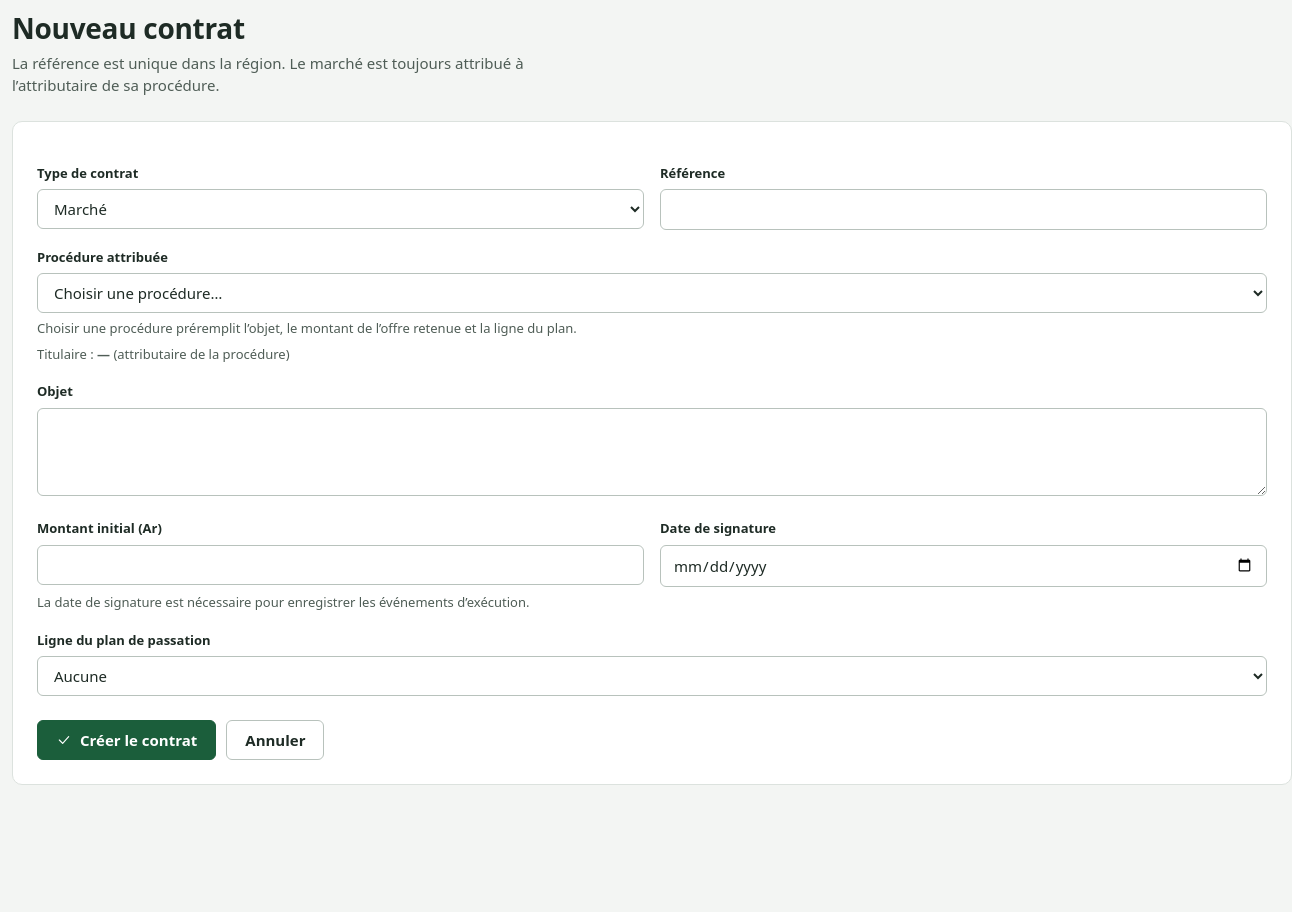
ContractForm › refuse un montant illisible sans appeler le processus principal
Select "Convention" in the dropdown labelled "Type de contrat" at (340, 209), box [37,189,644,229]
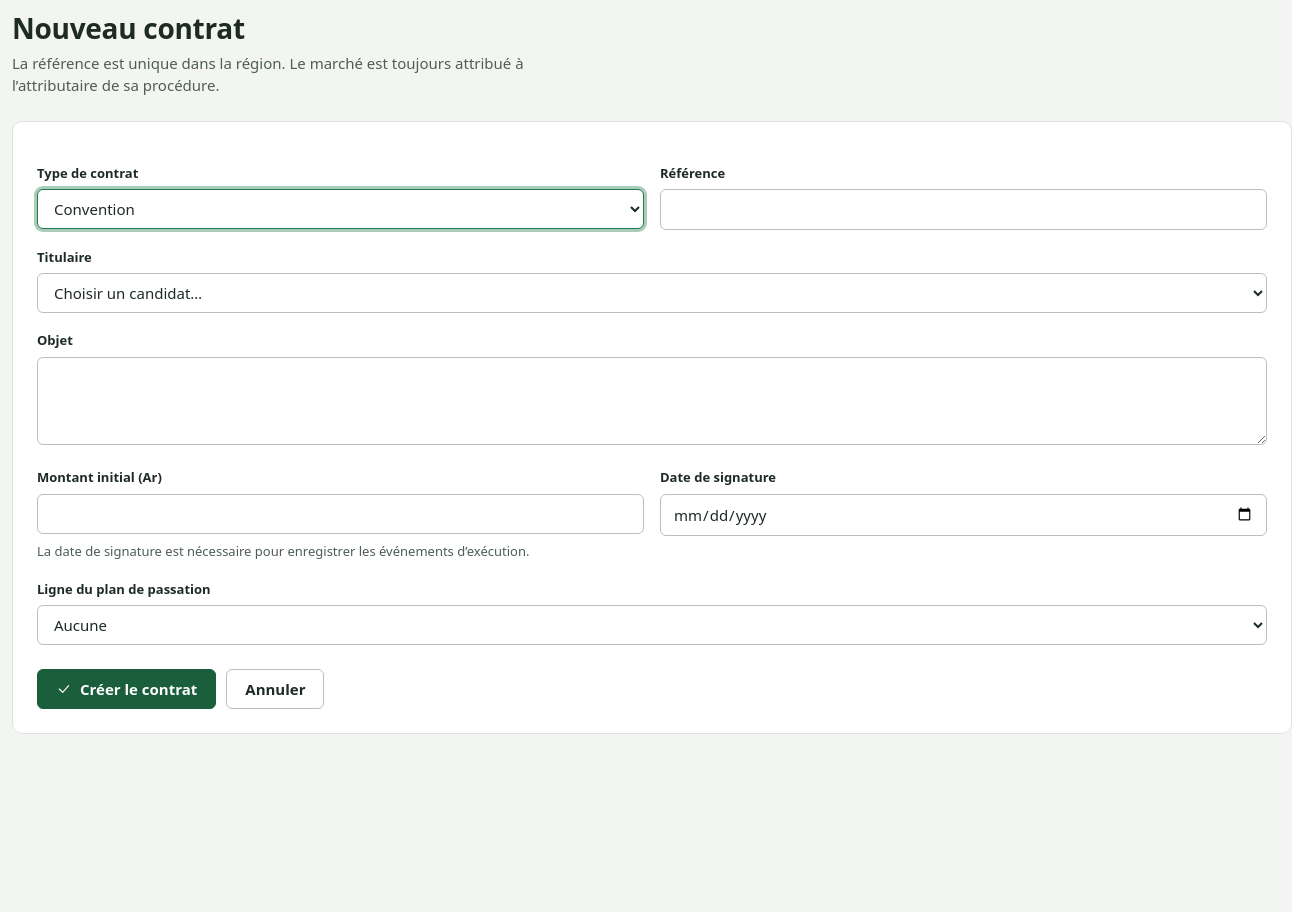
Select "Beta" in the dropdown labelled "Titulaire" at (652, 293), box [37,273,1267,313]
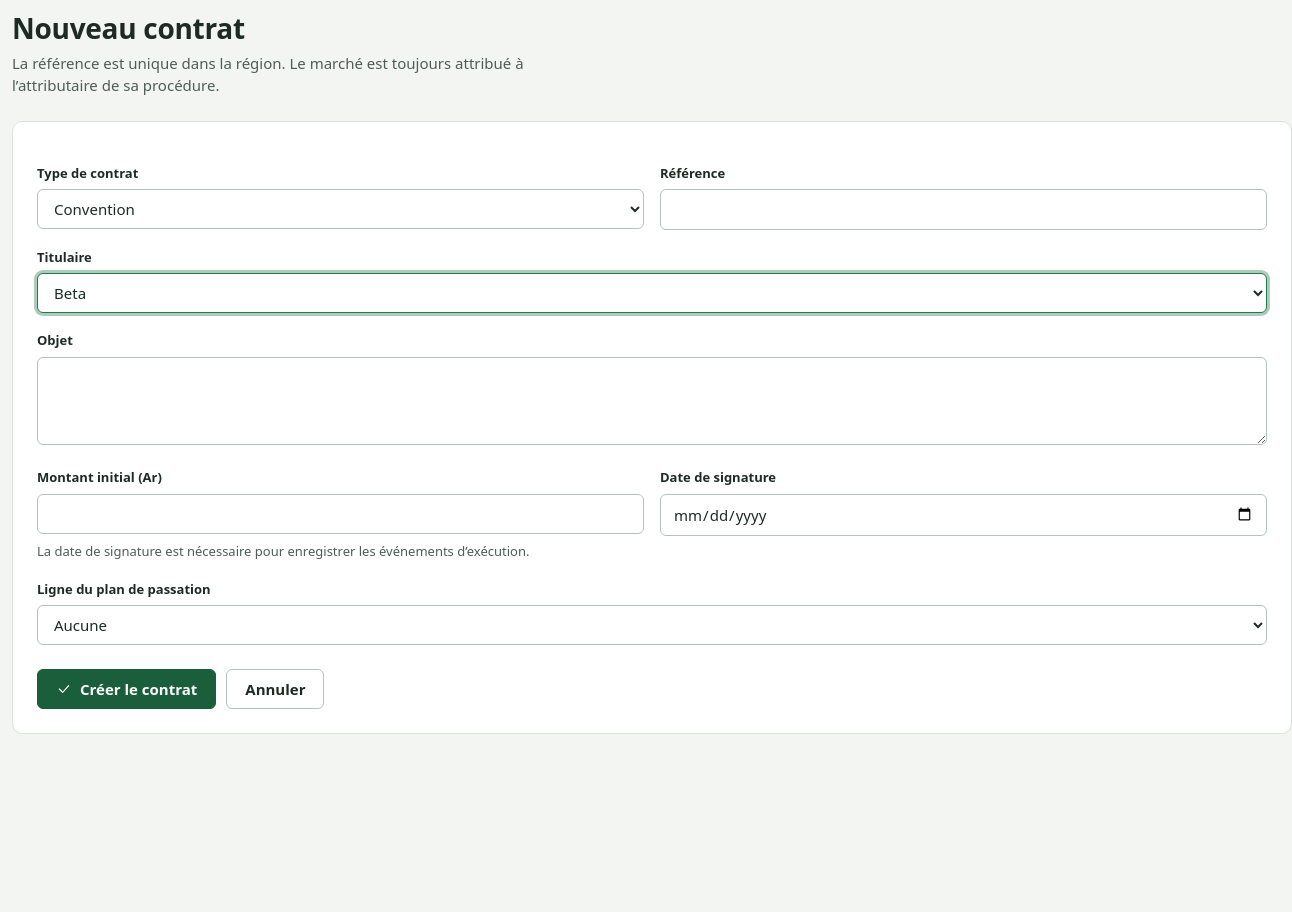
Type "C-1" into the field labelled "Référence" at (964, 209), box [660,189,1267,230]
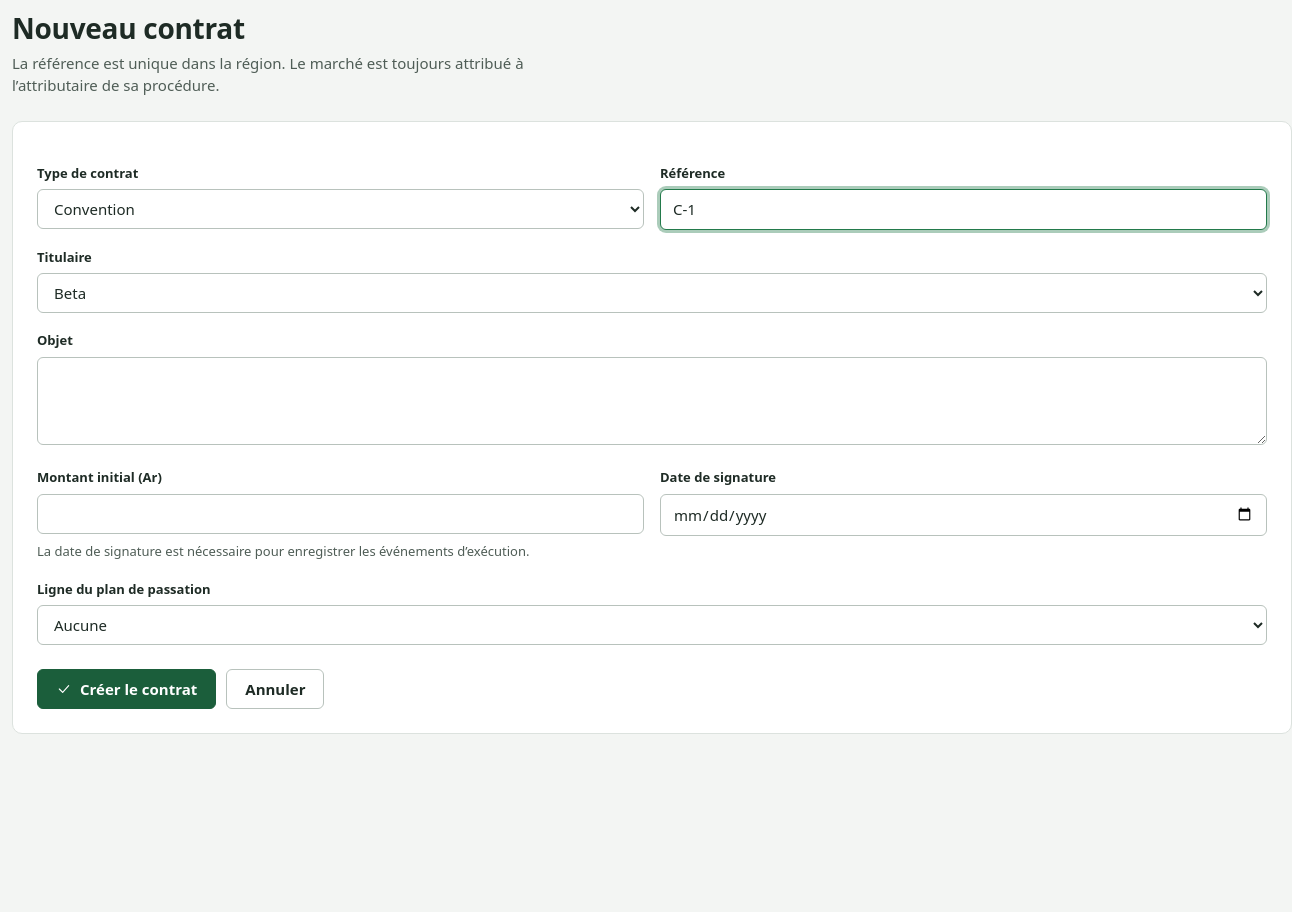
Type "Objet" into the text box labelled "Objet" at (652, 401), box [37,357,1267,445]
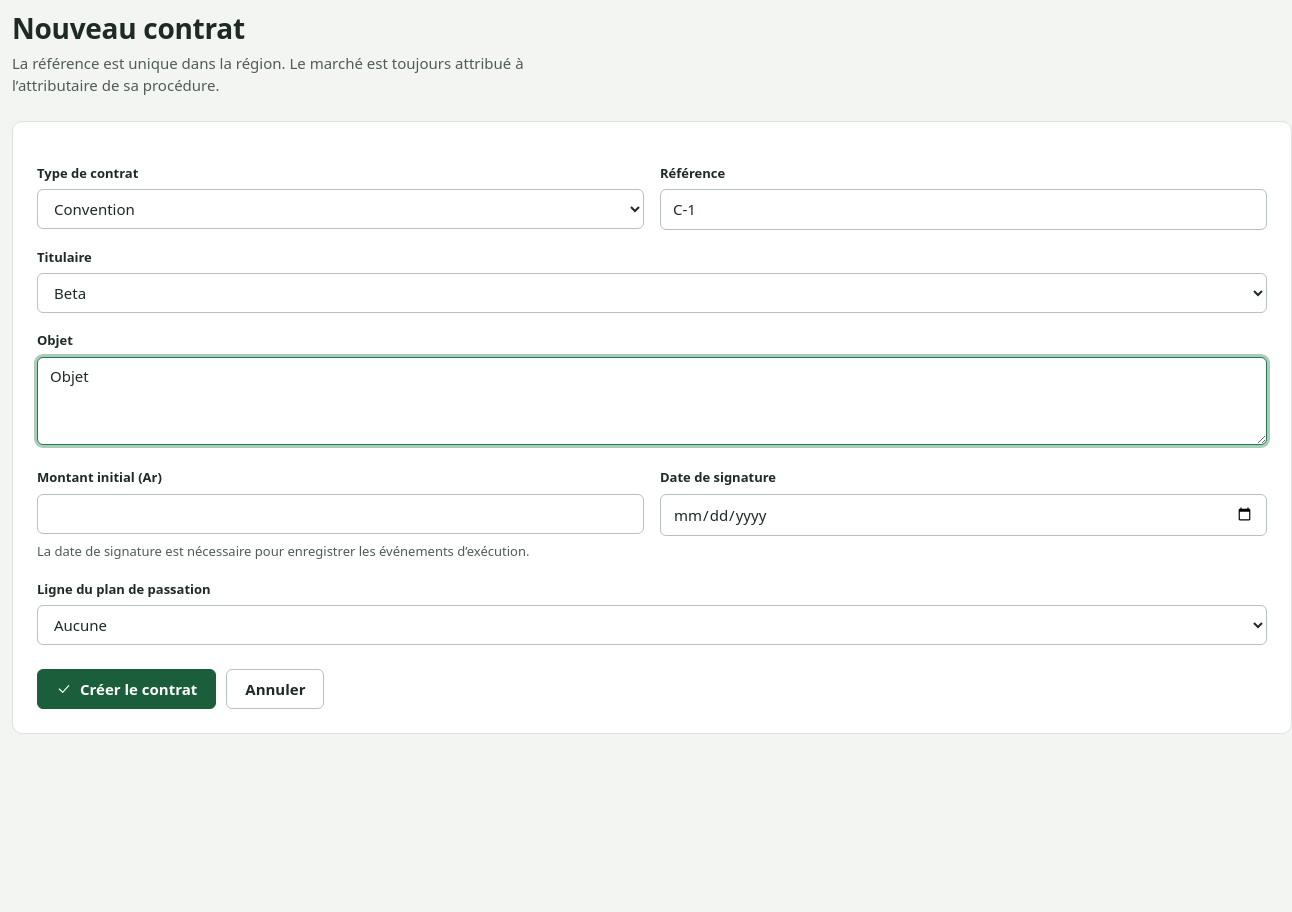
Type "beaucoup" into the field labelled "Montant initial (Ar)" at (340, 514), box [37,494,644,534]
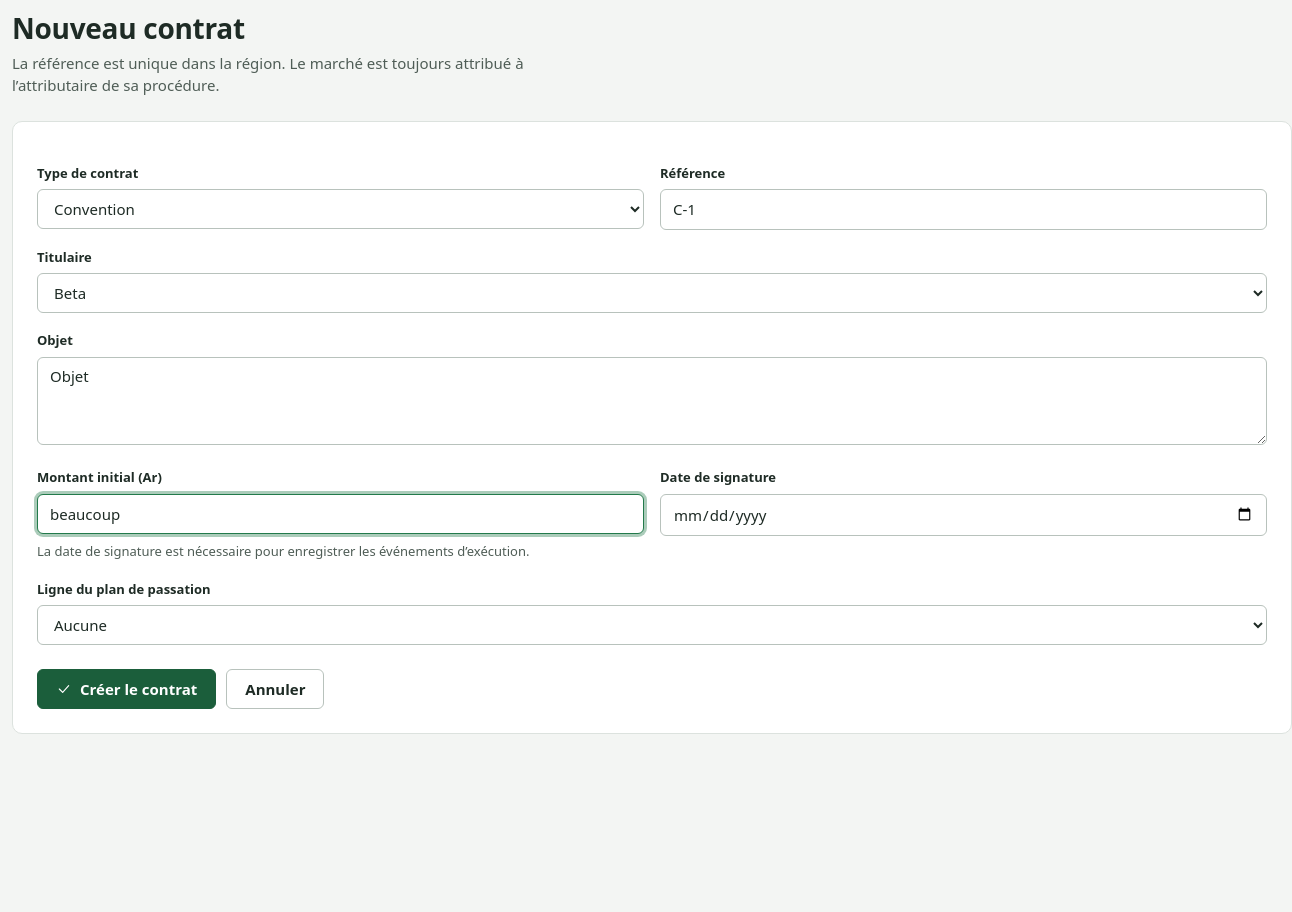
Click the button "Créer le contrat" at (127, 689), box [37,669,216,709]
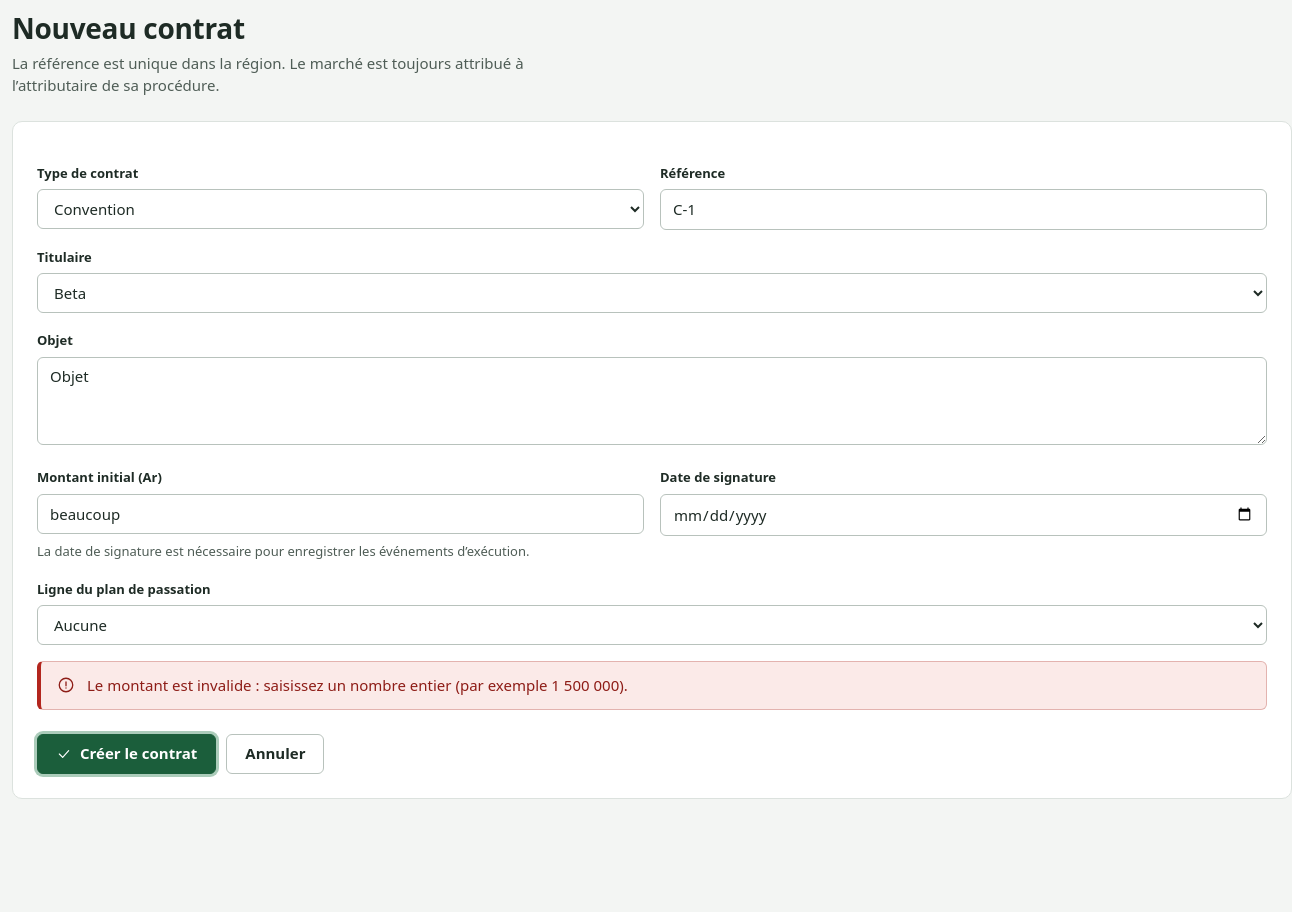
Now the message shows "montant est invalide", box [87,675,628,695]
